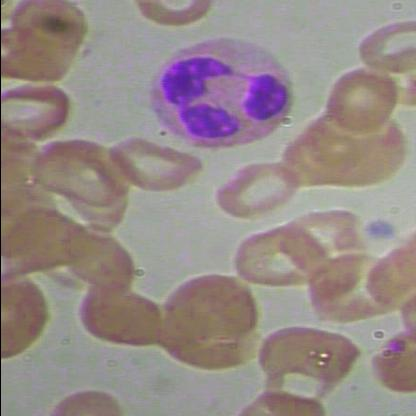Platelets: (359, 217, 397, 244)
RBC: (164, 271, 260, 350), (303, 252, 397, 327), (256, 324, 362, 386), (73, 286, 169, 352), (102, 136, 202, 198), (312, 66, 398, 132), (210, 158, 296, 222), (280, 208, 364, 272), (230, 228, 316, 288), (60, 225, 140, 289), (1, 268, 55, 362), (1, 78, 71, 143), (5, 0, 92, 52), (349, 12, 415, 76), (130, 1, 218, 28)
WBC: (149, 35, 291, 157)
